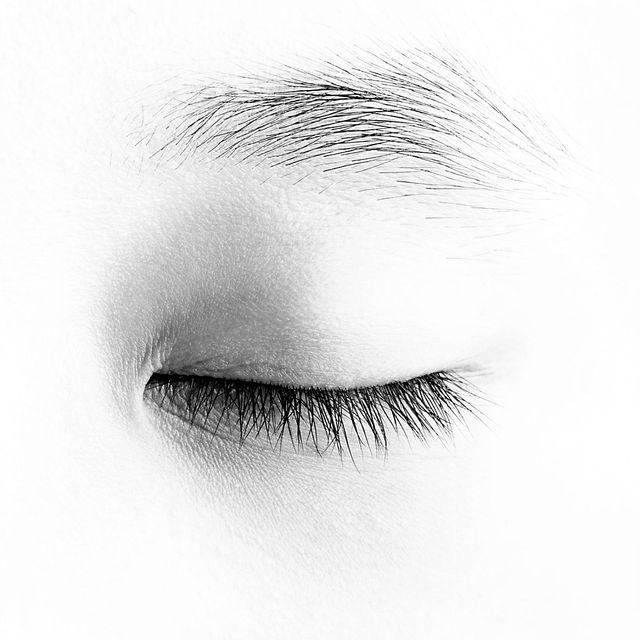real: (64, 68, 566, 477)
